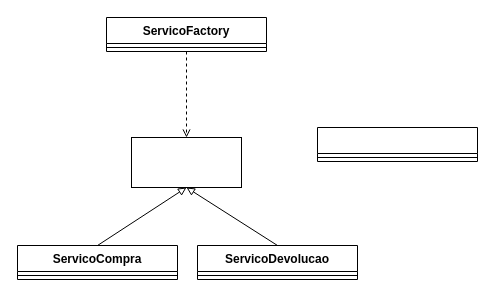
The diagram is 495 pixels wide and 297 high, and some of its shapes have lost their labels. Here are the shapes that lost their labels. From the top down, the centre of each, then its label:
At pixel 186 162: "«interface» IServico".
At pixel 397 144: "ServicoPagamento".
